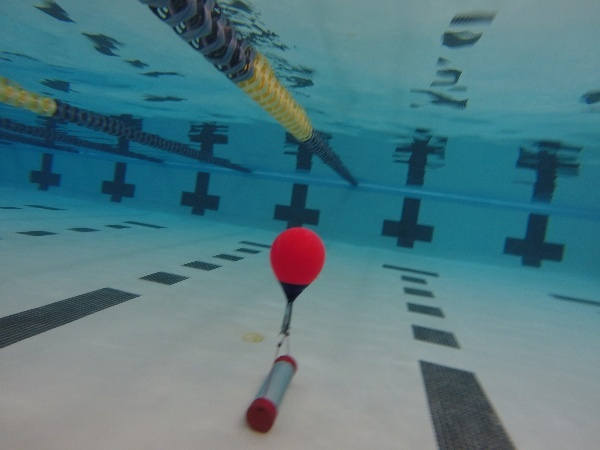buoy_red: (266, 223, 332, 312)
